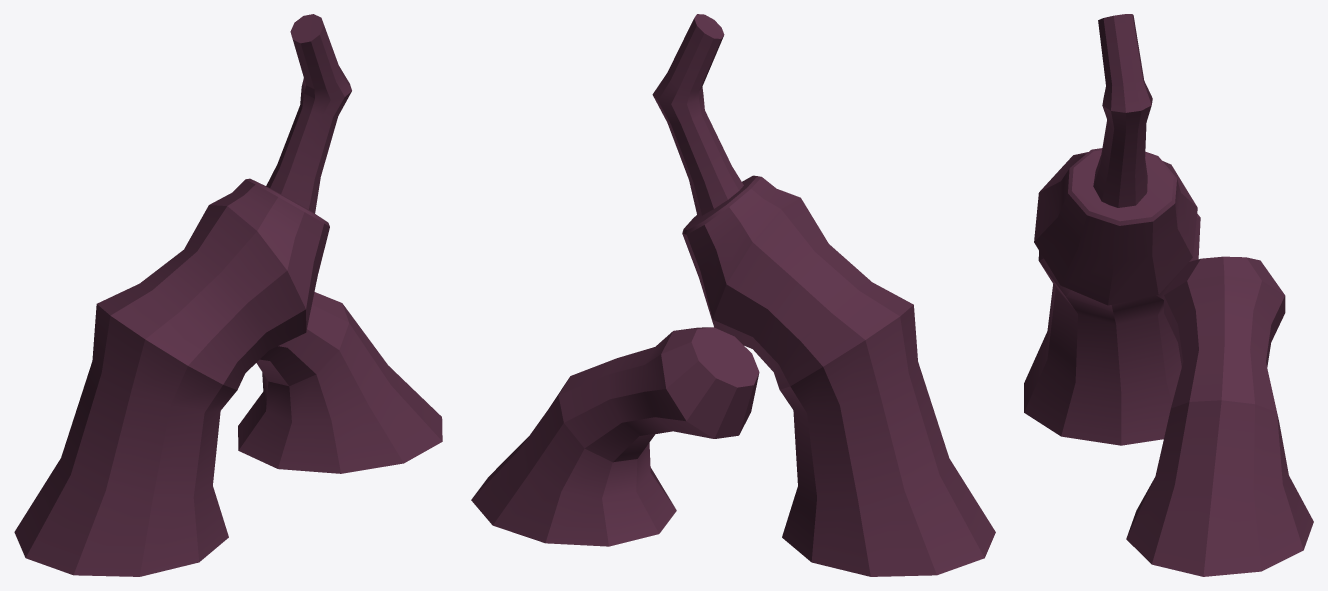
The model's file is ArbreMere_Souche02.fbx.
The picture shows the model from 3 angles, left to right: view 1: azimuth 30°, elevation 25°; view 2: azimuth 150°, elevation 25°; view 3: azimuth 270°, elevation 25°; orthographic projection.
Parts seen in each view (by area): view 1: ArbreMere_Souche02; view 2: ArbreMere_Souche02; view 3: ArbreMere_Souche02.
Part boxes in pixels (x1,y1,x2,y2): ArbreMere_Souche02: (14,14,442,576); ArbreMere_Souche02: (471,14,995,576); ArbreMere_Souche02: (1024,14,1313,576).
Bounding box in the file's own units: 356 × 352 × 193.
